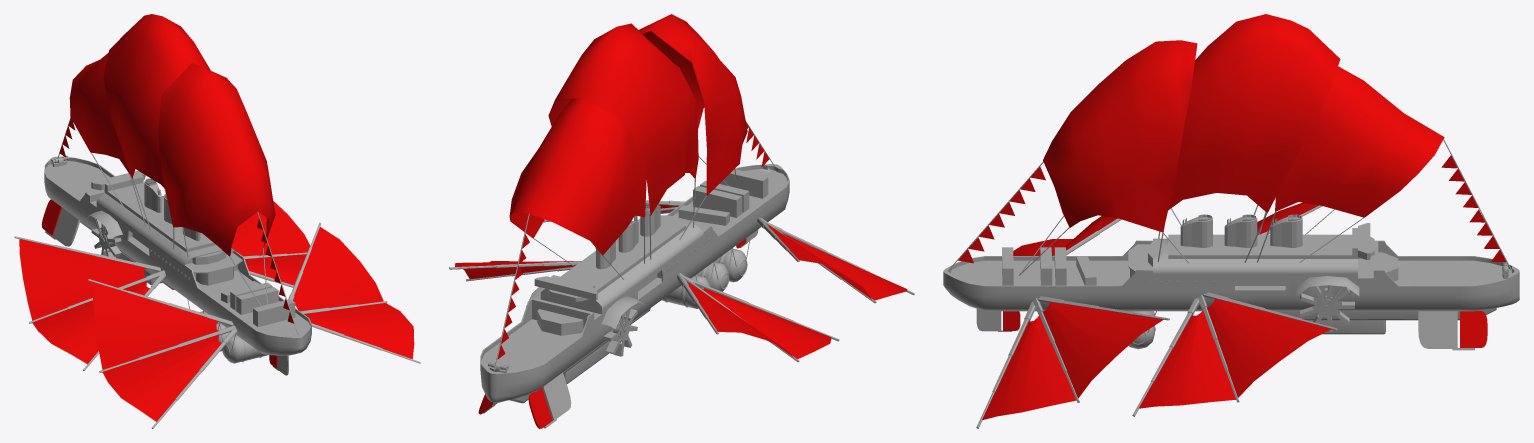
The model's file is ship_merchant_cargo.fbx.
3 renders of one model, left to right at view 1: azimuth 30°, elevation 25°; view 2: azimuth 150°, elevation 25°; view 3: azimuth 270°, elevation 25°, orthographic. The views are drawn at different scales.
Visible parts, largest first — view 1: cargo_ship, cargo, rudders; view 2: cargo_ship, cargo, rudders; view 3: cargo_ship, cargo, rudders.
Part boxes in pixels (box(x1,y1,x2,y2)): cargo_ship: box(14, 14, 420, 428); cargo: box(221, 281, 295, 326); rudders: box(41, 199, 278, 370); cargo_ship: box(449, 14, 914, 420); cargo: box(678, 169, 768, 225); rudders: box(478, 239, 747, 428); cargo_ship: box(943, 14, 1519, 428); cargo: box(1002, 247, 1096, 285); rudders: box(998, 311, 1487, 350).
Bounding box in the file's own units: 16605 × 15616 × 24102.
